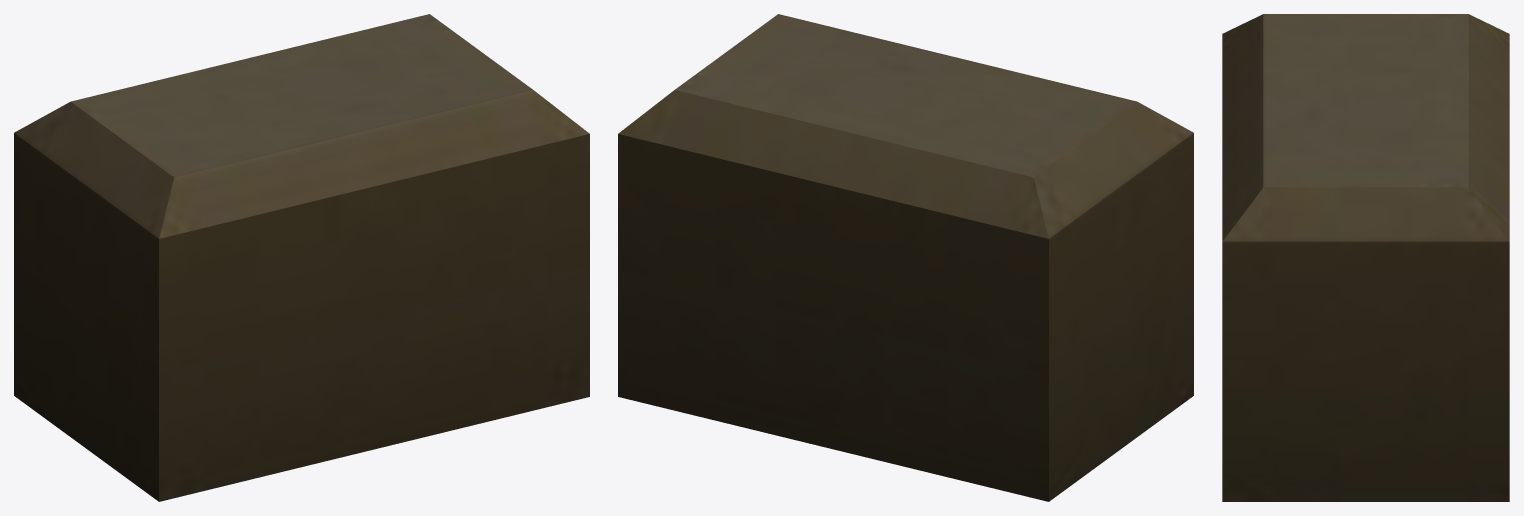
Rendered from stone-wall.glb.
3 views of the same model, side by side, from view 1: azimuth 30°, elevation 25°; view 2: azimuth 150°, elevation 25°; view 3: azimuth 270°, elevation 25° (orthographic).
Parts seen in each view (by area): view 1: stone-wall; view 2: stone-wall; view 3: stone-wall.
Part boxes in pixels (<box>): stone-wall: <box>14,14,589,501</box>; stone-wall: <box>618,14,1193,501</box>; stone-wall: <box>1222,14,1509,501</box>.
Size of the model in its own units: 0.24 by 0.16 by 0.14.
Materials: 1 (1 with a texture image).
